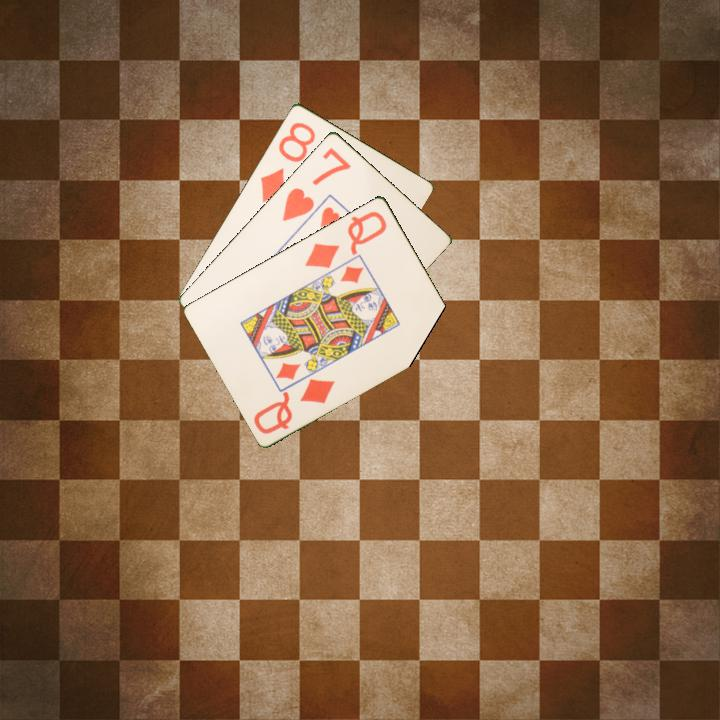7h: (279, 143, 354, 224)
8d: (257, 118, 318, 205)
Qd: (301, 207, 390, 271), (249, 374, 338, 437)
